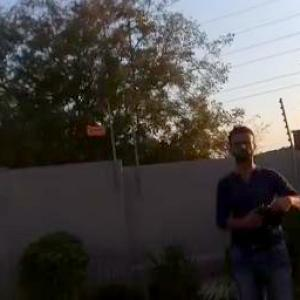follow: (213, 121, 300, 299)
